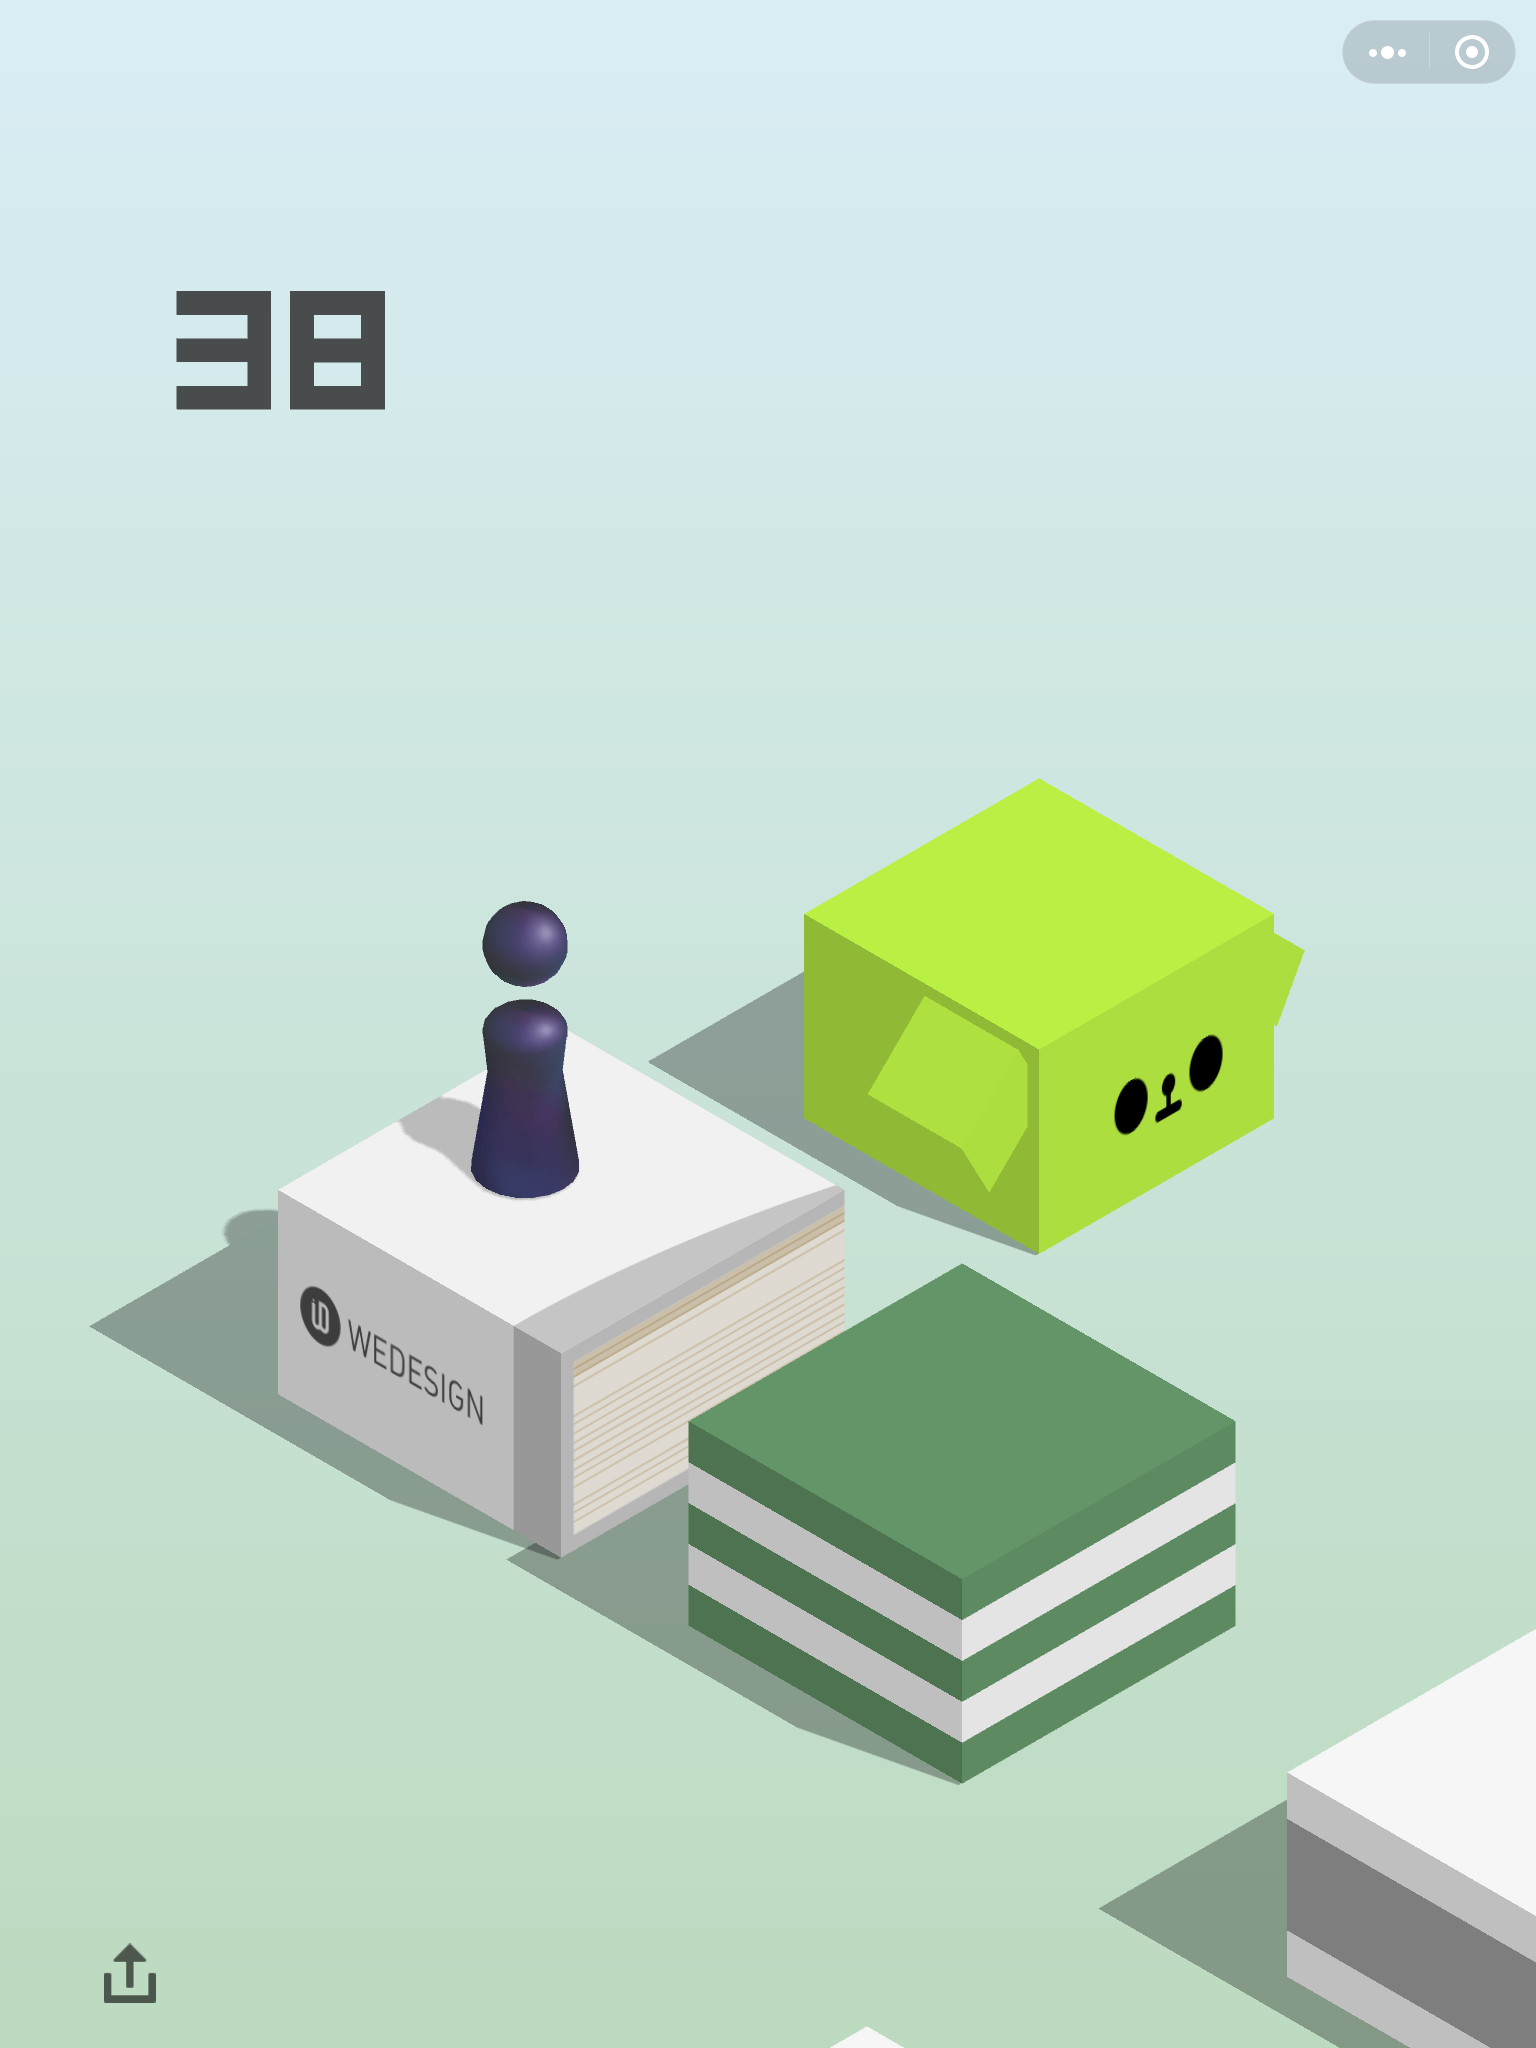f: (271, 1024, 855, 1566), (682, 1255, 1242, 1787), (799, 768, 1302, 1258), (1276, 1613, 1536, 2048)
r: (466, 895, 587, 1201)
